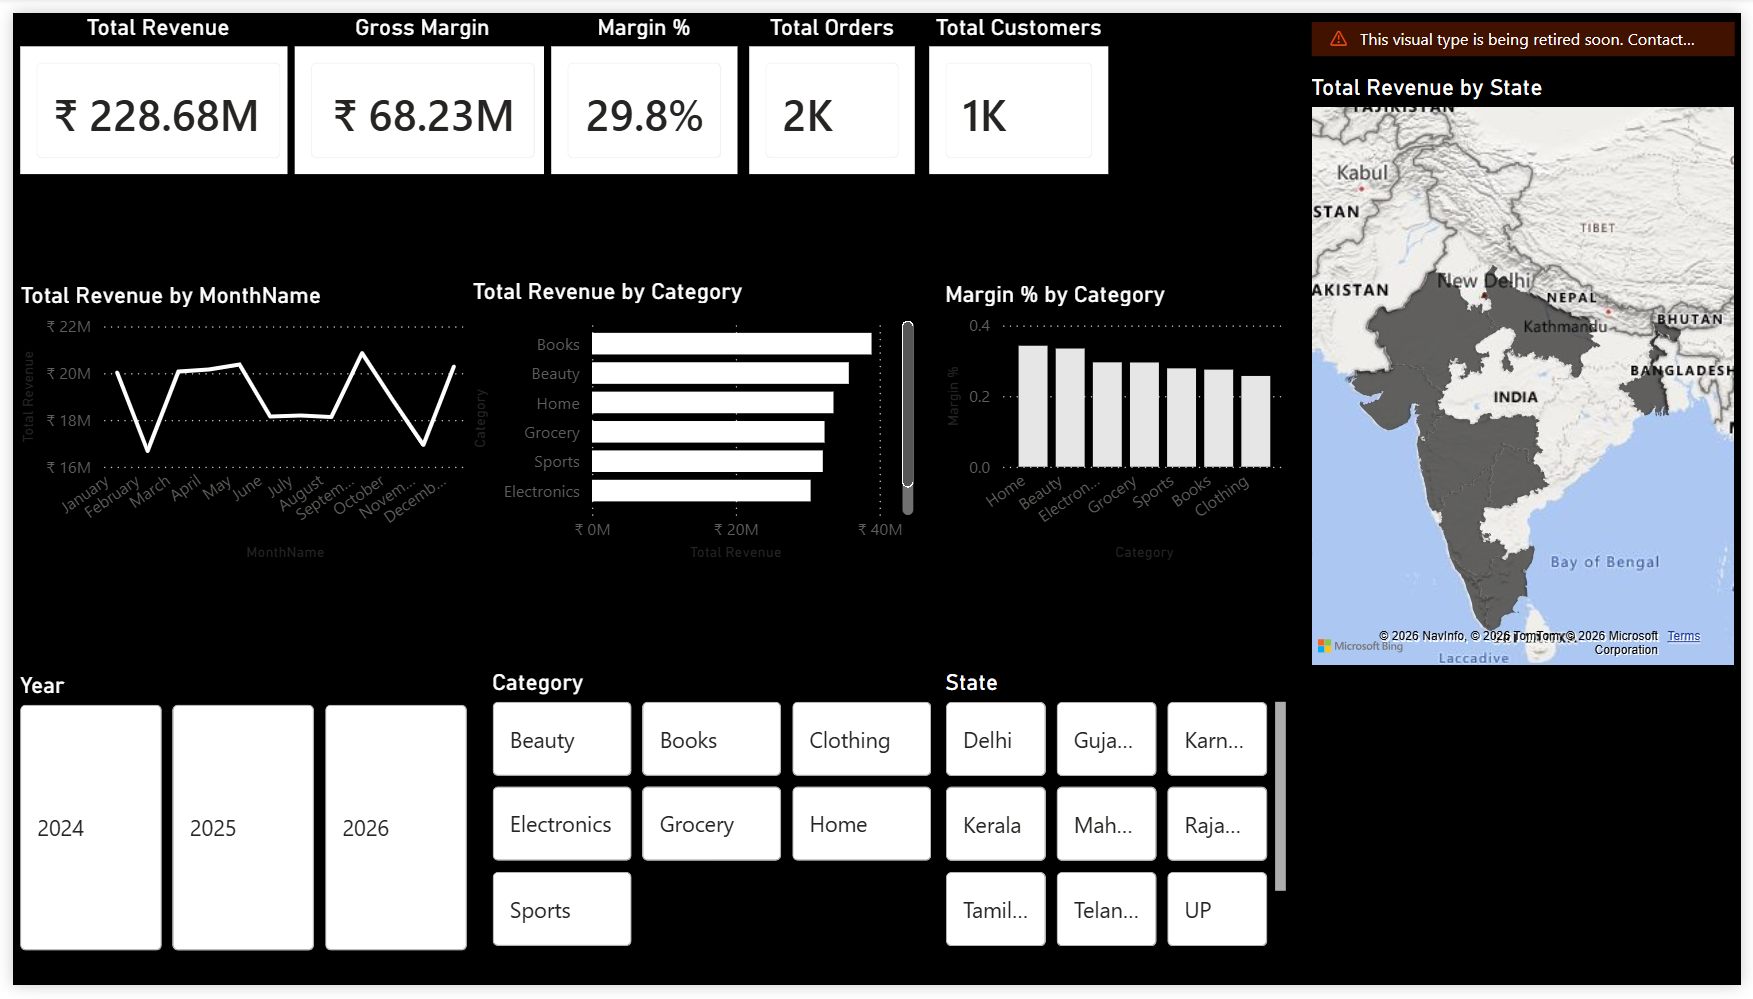

The page's visual inventory and layout, read from the dashboard file:
{"tool":"powerbi","page":{"name":"Executive Overview","canvas":[1280,720],"ordinal":0},"visuals":[{"type":"cardVisual","title":"Total Revenue","fields":{"Data":["Measures Table.Total Revenue"]},"box":[0,0,215,125],"z":0},{"type":"cardVisual","title":"Gross Margin","fields":{"Data":["Measures Table.Gross Margin"]},"box":[203.3,0,200,125],"z":1000},{"type":"cardVisual","title":"Margin %","fields":{"Data":["Measures Table.Margin %"]},"box":[393.3,0,148.3,125],"z":2000},{"type":"cardVisual","title":"Total Orders","fields":{"Data":["Measures Table.Total Orders"]},"box":[540,0,133.3,125],"z":3000},{"type":"cardVisual","title":"Total Customers","fields":{"Data":["Measures Table.Total Customers"]},"box":[673.3,0,143.3,125],"z":4000},{"type":"lineChart","fields":{"Y":["Measures Table.Total Revenue"],"Category":["date.MonthName"]},"box":[0,197.5,341.7,213.3],"z":5000},{"type":"clusteredBarChart","fields":{"Category":["products.Category"],"Y":["Measures Table.Total Revenue"]},"box":[336,196,336,214],"z":6000},{"type":"filledMap","fields":{"Category":["orders.State"]},"box":[956.7,6.7,323.3,481.7],"z":7000},{"type":"columnChart","fields":{"Category":["products.Category"],"Y":["Measures Table.Margin %"]},"box":[686,198,262,212],"z":8000},{"type":"advancedSlicerVisual","fields":{"Values":["date.Year"]},"box":[0,488,342,212],"z":9000},{"type":"advancedSlicerVisual","fields":{"Values":["products.Category"]},"box":[350,485,335,213],"z":10000},{"type":"advancedSlicerVisual","fields":{"Values":["orders.State"]},"box":[686,485,262,213],"z":11000}]}

Visuals, with their boxes in screenshot pixels (x1, y1, x2, y2), scaled from the page's 1280x720 canvas onto the 1753x999 screenshot:
"Total Revenue" cardVisual: box=[0, 0, 294, 173]
"Gross Margin" cardVisual: box=[278, 0, 552, 173]
"Margin %" cardVisual: box=[539, 0, 742, 173]
"Total Orders" cardVisual: box=[740, 0, 922, 173]
"Total Customers" cardVisual: box=[922, 0, 1118, 173]
lineChart - Measures Table.Total Revenue x date.MonthName: box=[0, 274, 468, 570]
clusteredBarChart - products.Category x Measures Table.Total Revenue: box=[460, 272, 920, 569]
filledMap - orders.State: box=[1310, 9, 1752, 678]
columnChart - products.Category x Measures Table.Margin %: box=[939, 275, 1298, 569]
advancedSlicerVisual - date.Year: box=[0, 677, 468, 971]
advancedSlicerVisual - products.Category: box=[479, 673, 938, 968]
advancedSlicerVisual - orders.State: box=[939, 673, 1298, 968]
